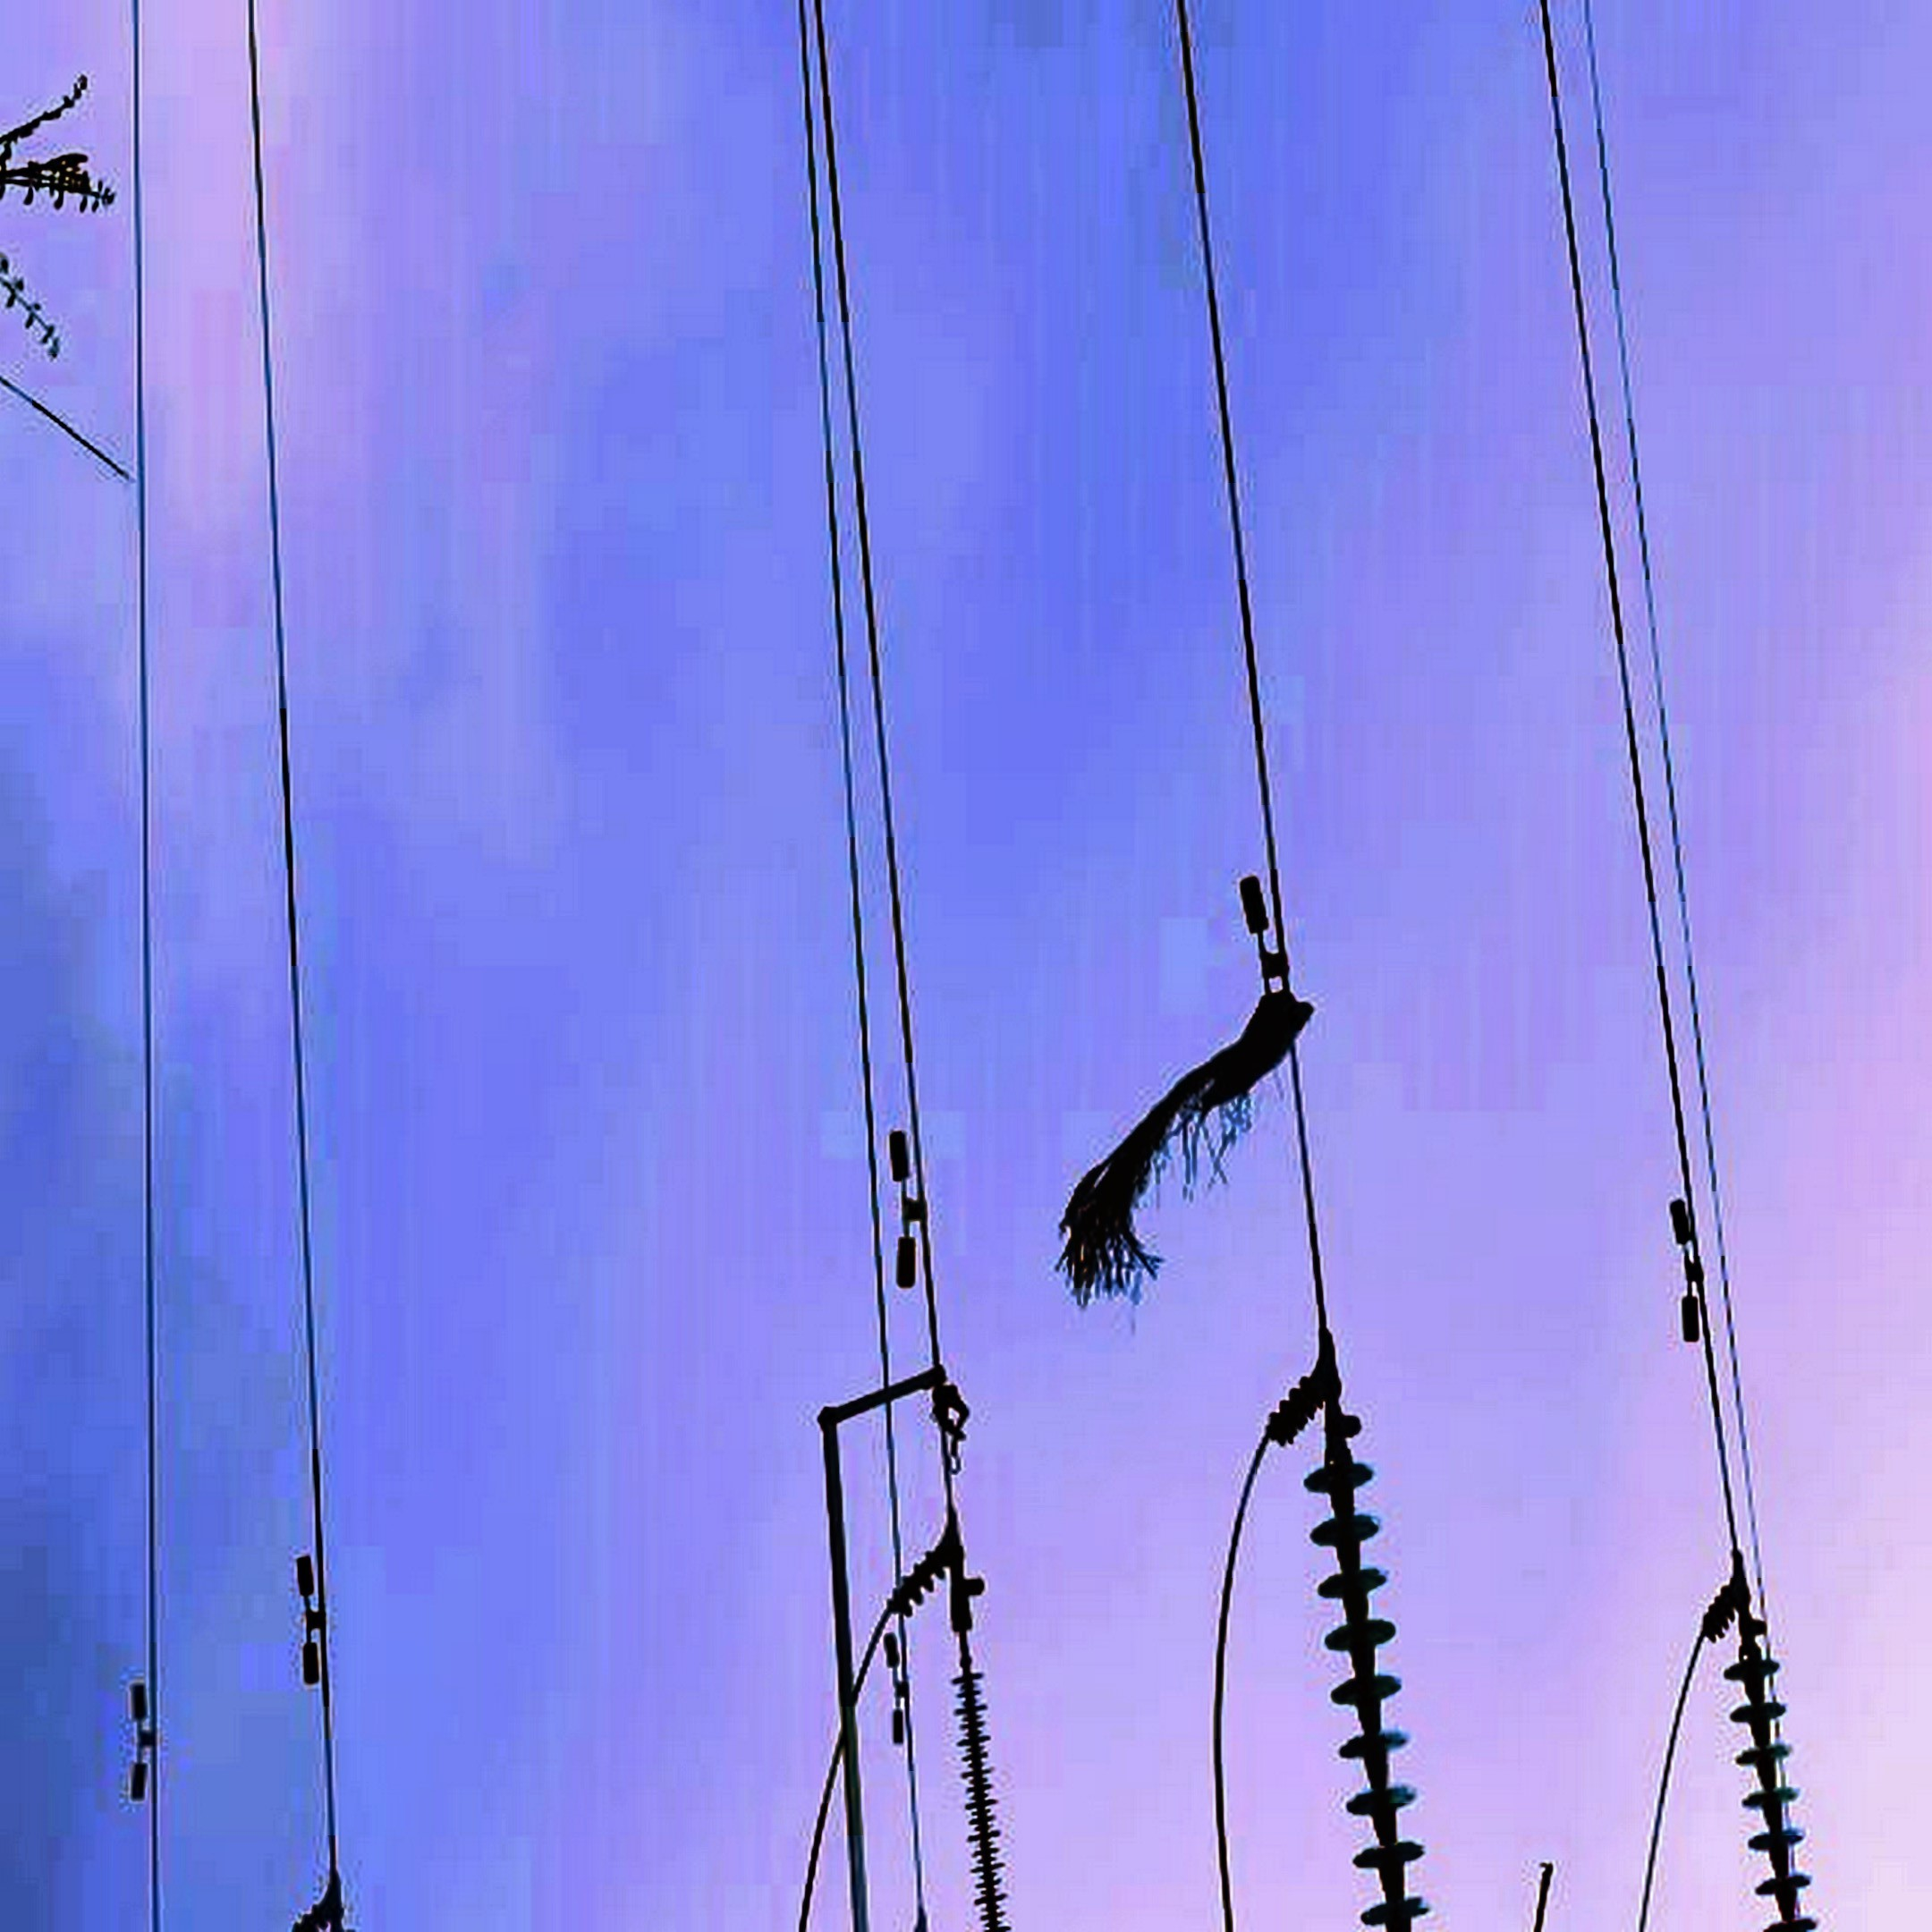wire foreign body: (1033, 941, 1375, 1352)
